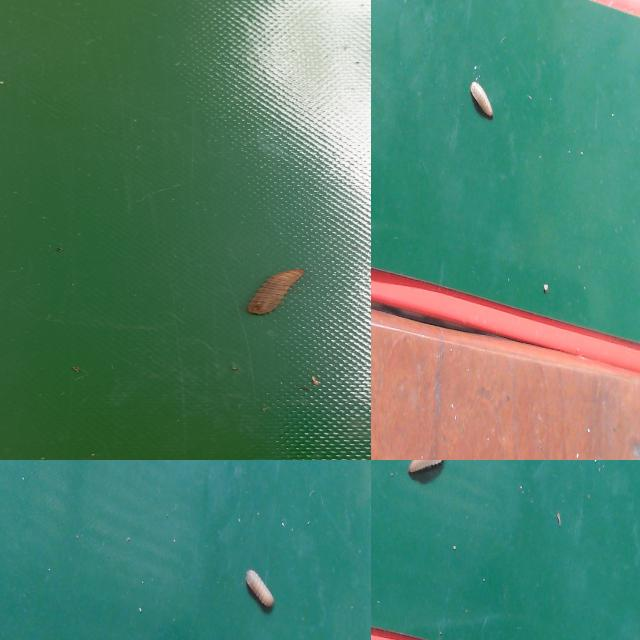Maggot: (246, 269, 303, 317), (245, 572, 276, 615), (469, 81, 495, 122), (407, 460, 445, 485)
